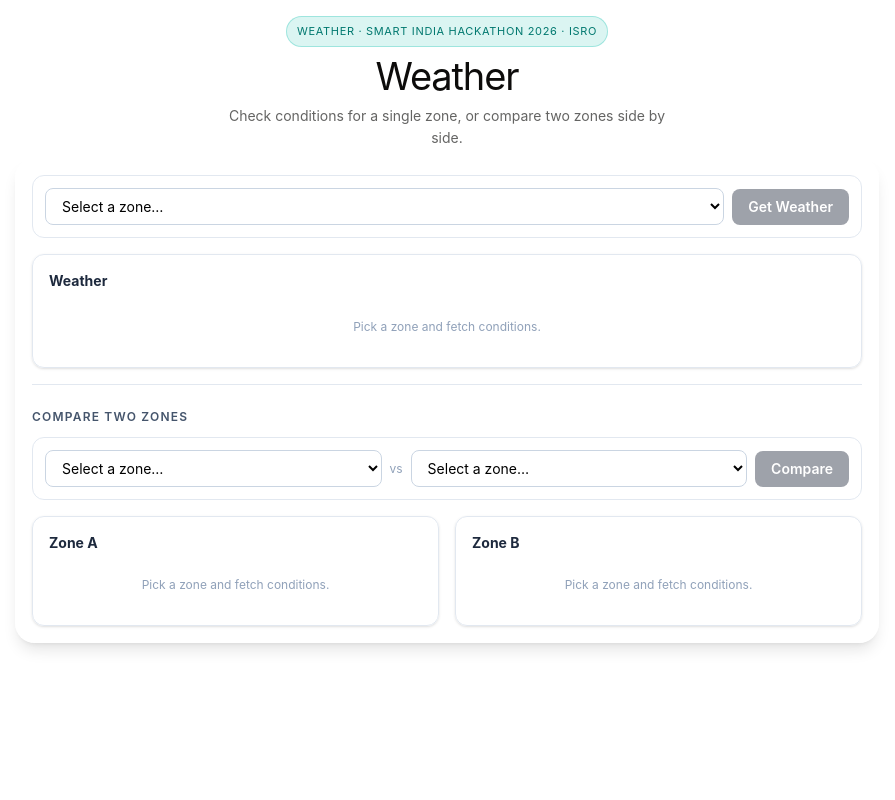
Test: WeatherPage — compare two zones › fetches both zones concurrently and renders each result independently
The width and height of the screenshot is (895, 800).
Select "PFZ-001 — near Kochi" in the 2nd dropdown at (213, 468), box [45,450,382,487]
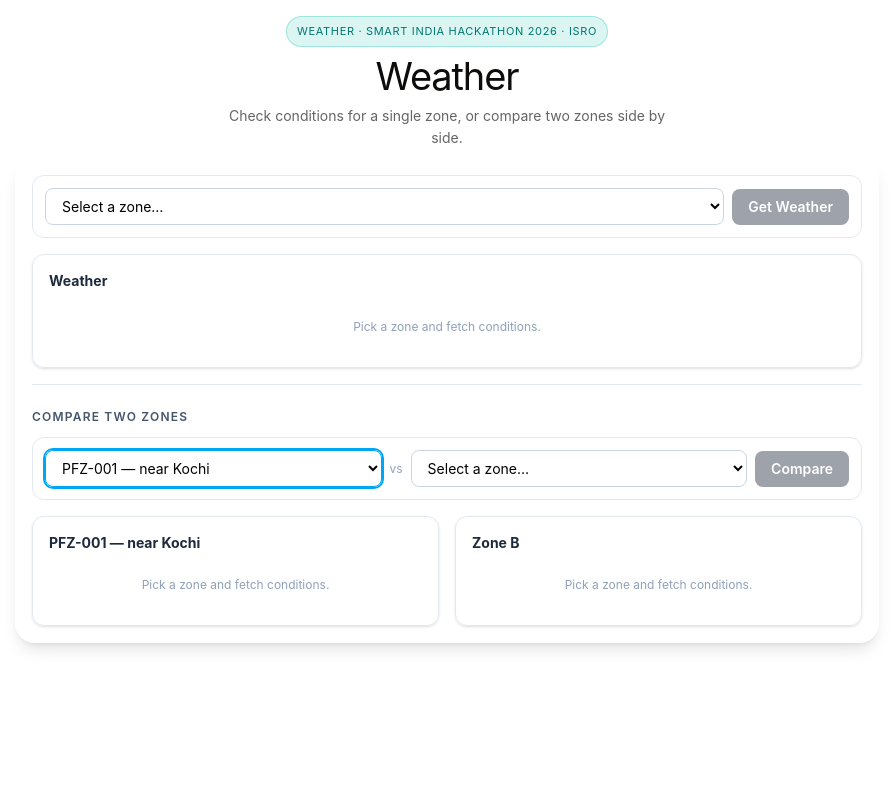
Select "PFZ-001 — near Chennai" in the 3rd dropdown at (579, 468), box [411,450,747,487]
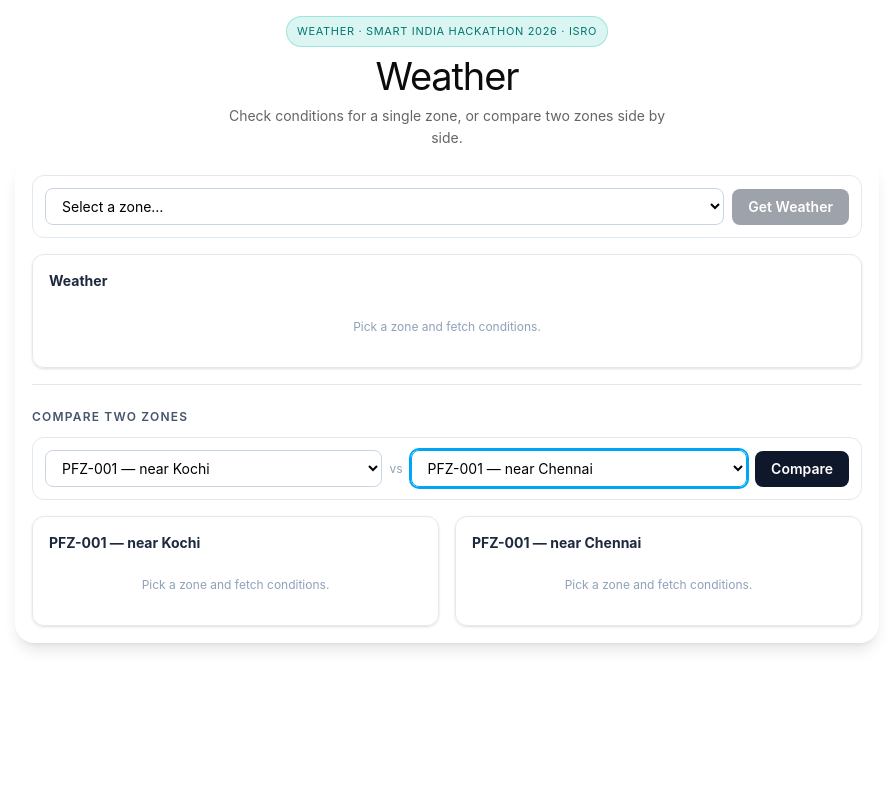
Click the button "Compare" at (802, 468), box [755,450,849,486]
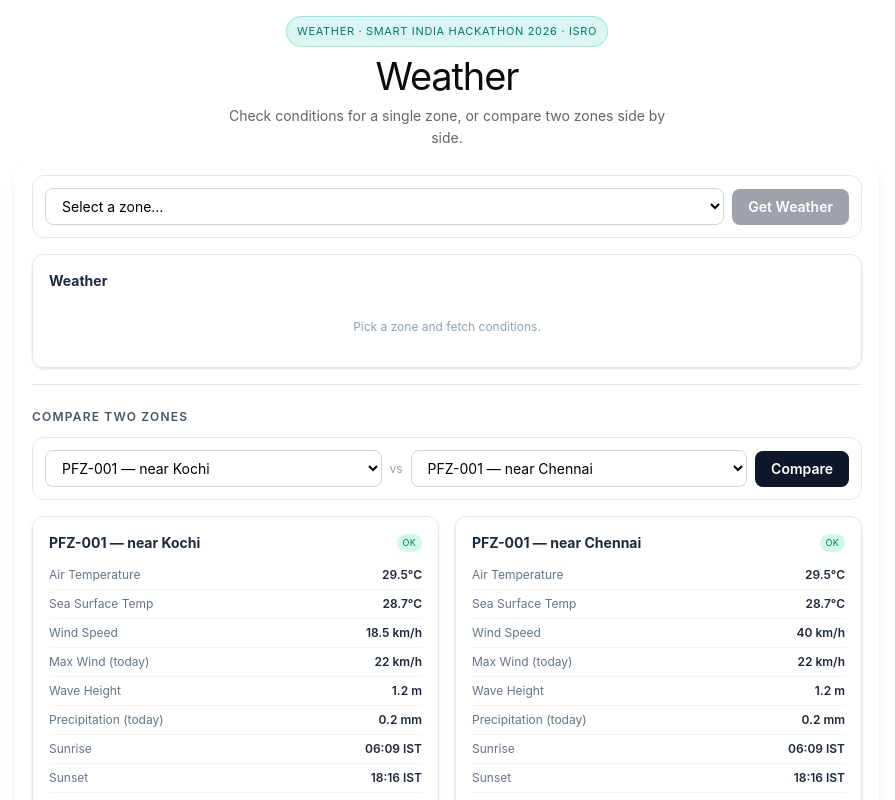
expect the text "18.5 km/h" is shown: met, box [366,625,422,641]
expect the text "40 km/h" is shown: met, box [796,625,845,641]
